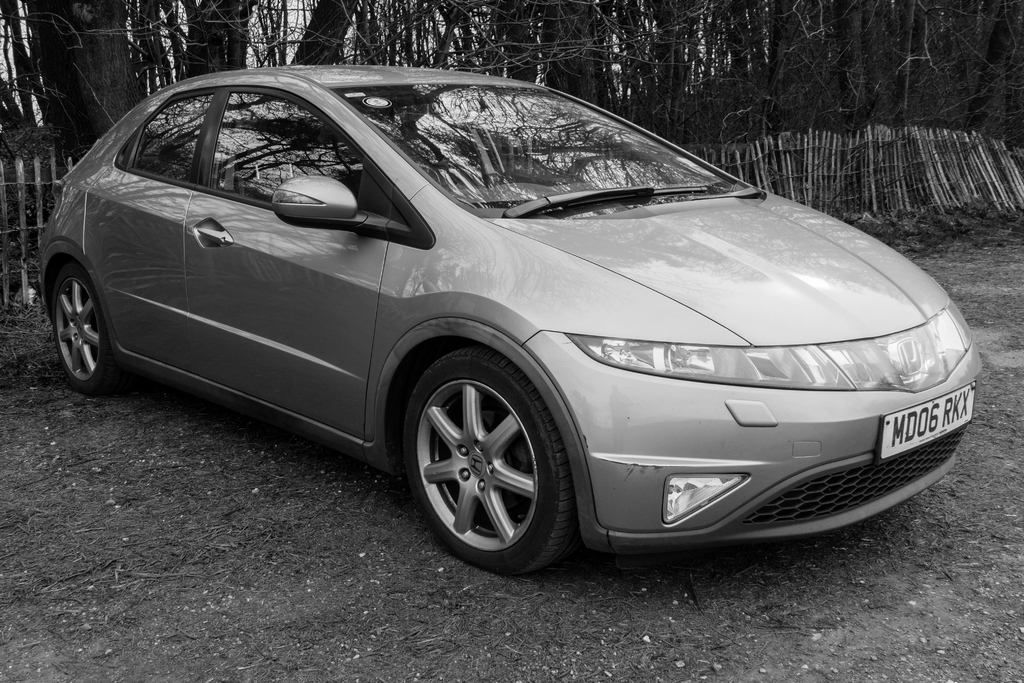Car: (29, 60, 993, 595)
